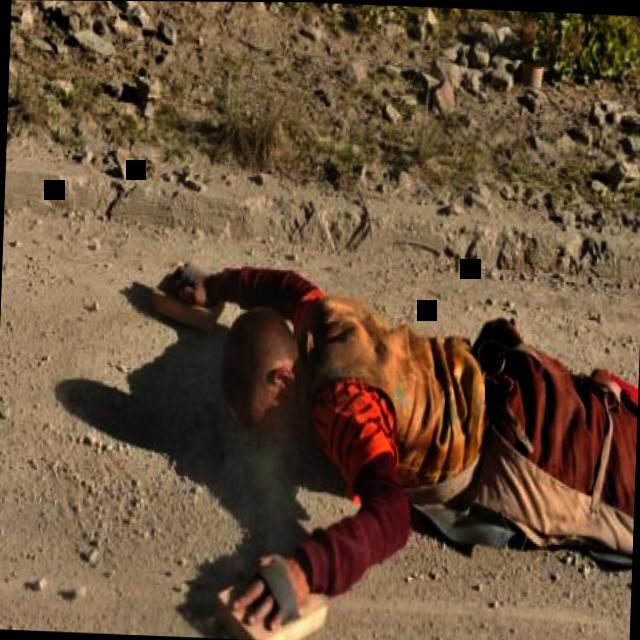Fall-Detected: (171, 230, 640, 640)
